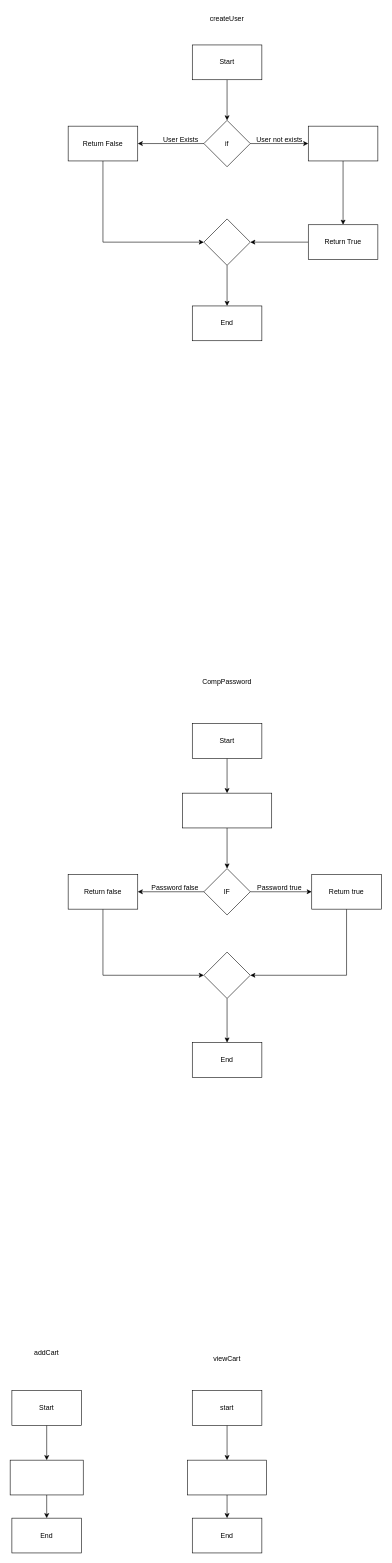
This 392x1563 diagram has some shape labels left out. The centre of each missing label's shape, as x and y in pixels:
"Insert into cart (userId, productId, quantity)" goes at [46,1477].
"Insert into users ( username, email, password)" goes at [343,143].
"saltedPsswd = MD5 + salt" goes at [227,810].
"Select all from cart where (user_id = userID)" goes at [227,1477].
